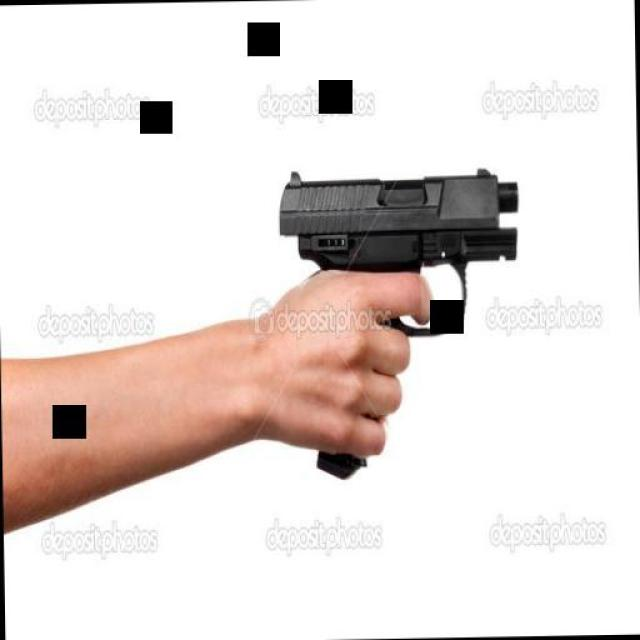gun: (271, 150, 535, 488)
